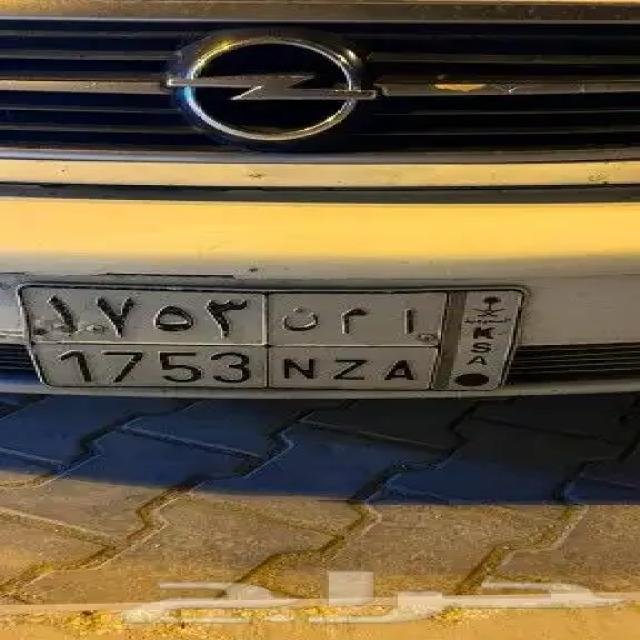license_plate: (41, 342, 432, 388)
